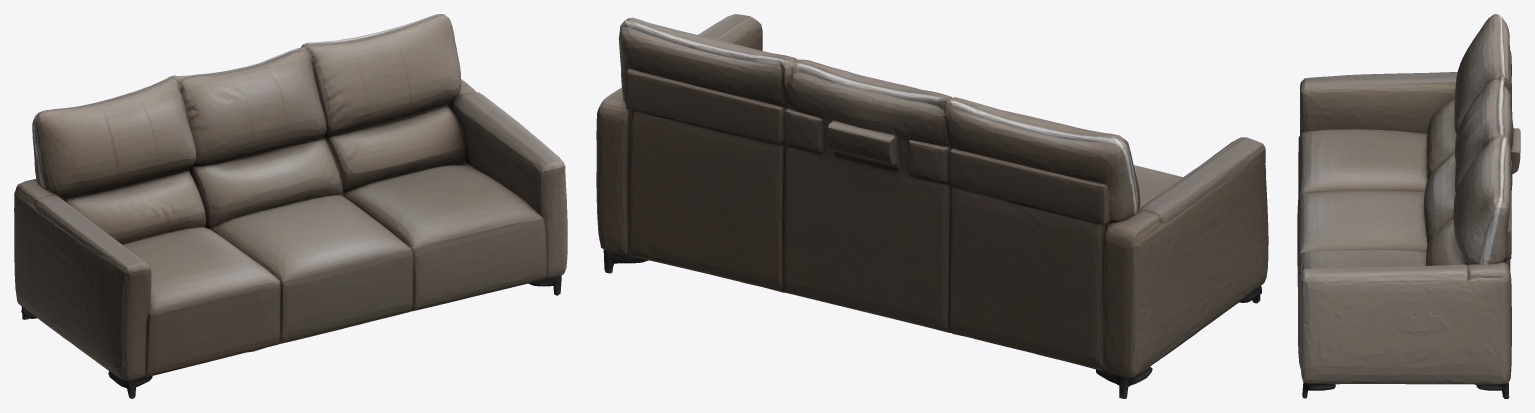
The model's file is ast_e8e7b81eba5c.glb.
3 renders of one model, left to right at view 1: azimuth 30°, elevation 25°; view 2: azimuth 150°, elevation 25°; view 3: azimuth 270°, elevation 25°, orthographic. The views are drawn at different scales.
Parts seen in each view (by area): view 1: geometry_0; view 2: geometry_0; view 3: geometry_0.
Boxes of the visible parts, x1,y1,x2,y2 form: geometry_0: (14, 14, 567, 398); geometry_0: (596, 14, 1268, 398); geometry_0: (1297, 14, 1520, 398).
Size of the model in its own units: 0.9989 by 0.4424 by 0.4559.
1 material, 1 textured.
